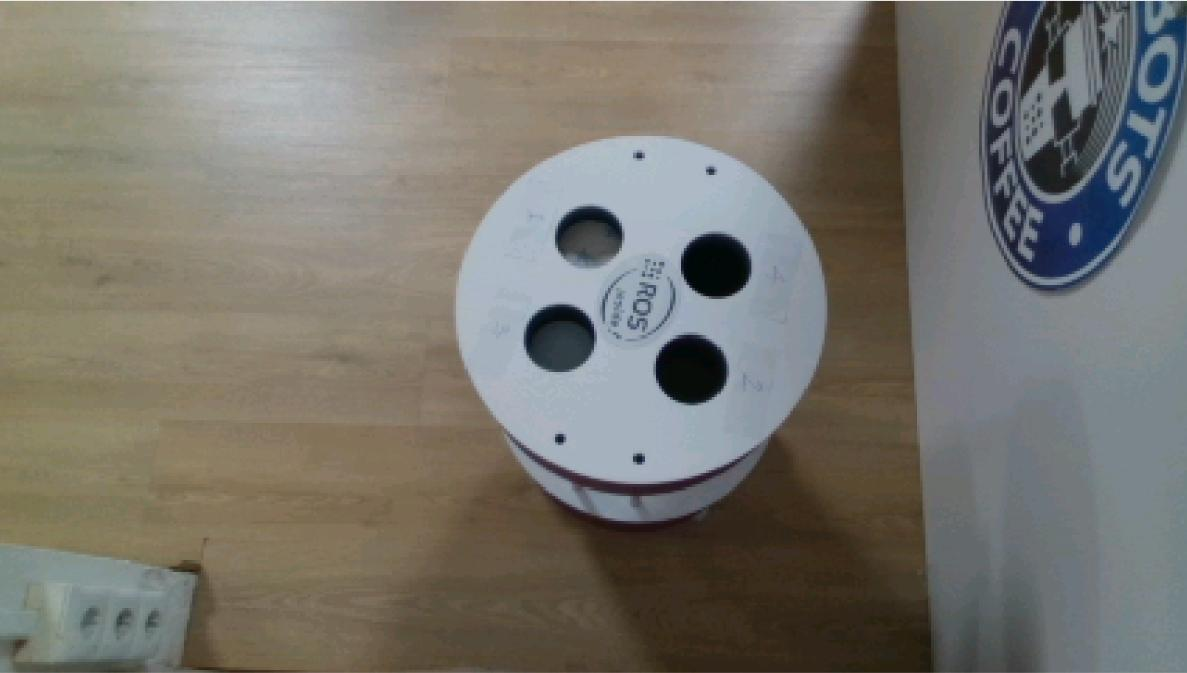hole: (651, 328, 730, 407), (544, 199, 630, 271), (521, 299, 598, 374), (678, 230, 756, 299)
